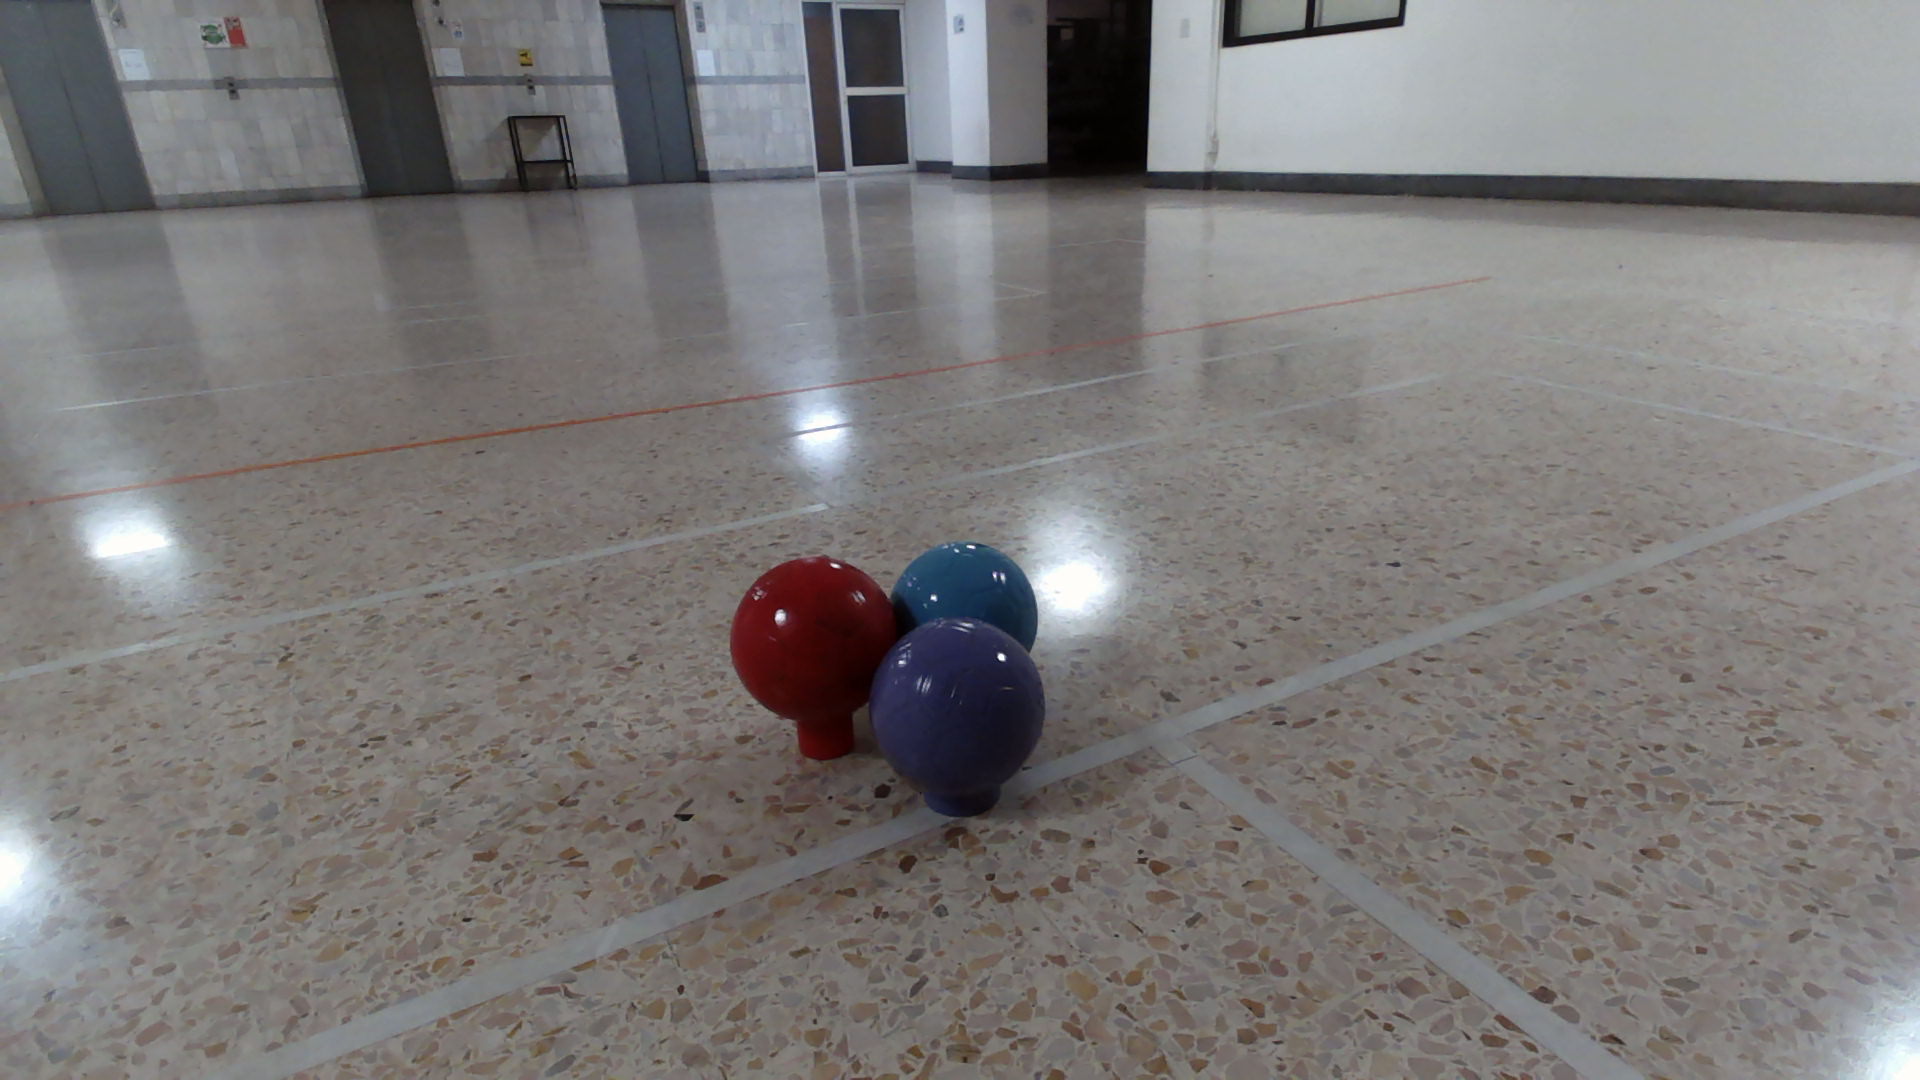Blue ball: (891, 539, 1043, 651)
Purple ball: (865, 615, 1048, 800)
Red ball: (731, 553, 895, 724)
